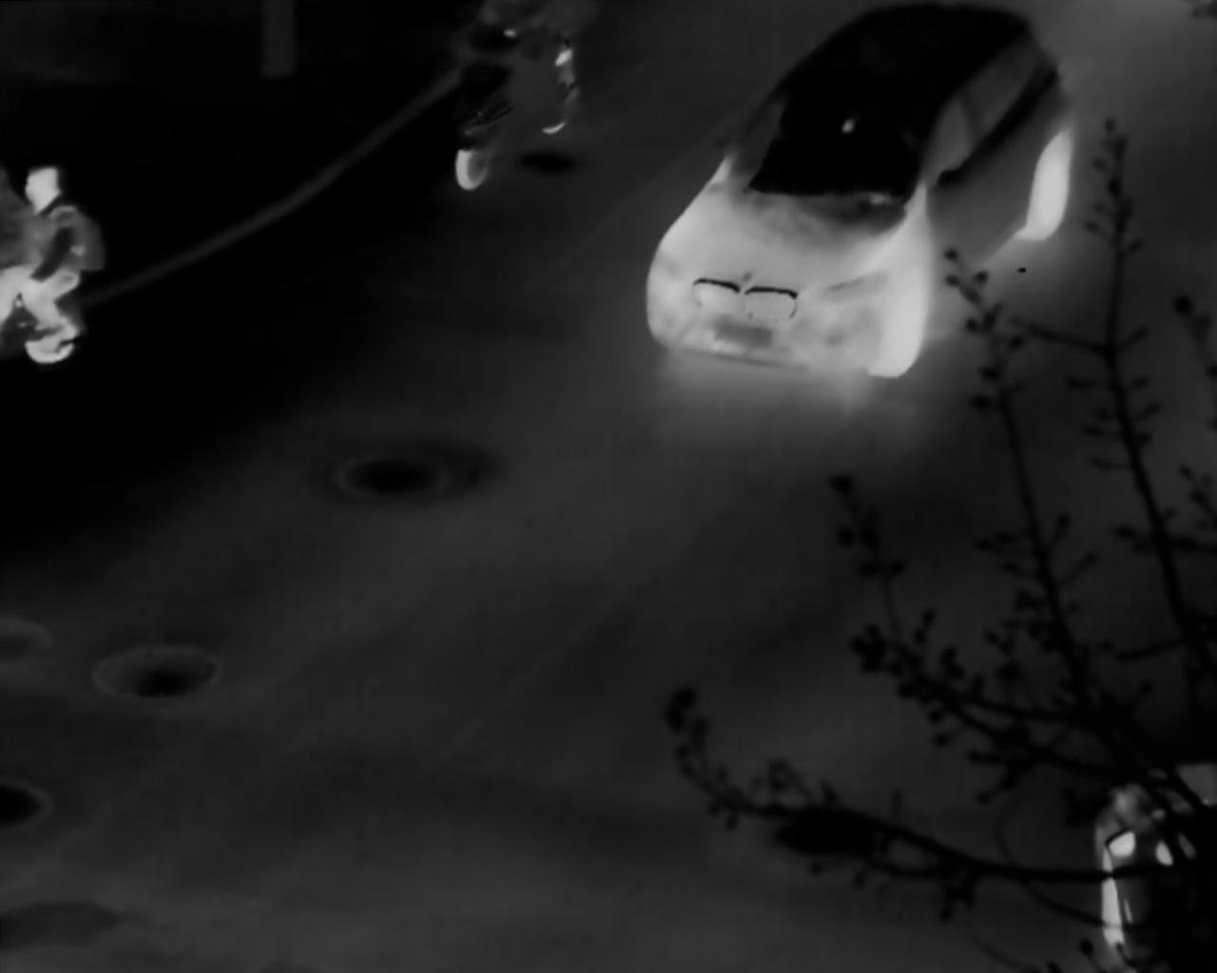person: (24, 168, 100, 342)
